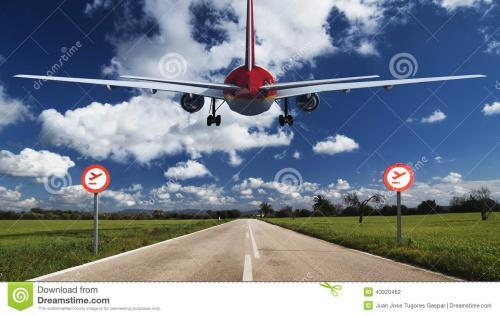airplane: (10, 1, 485, 113)
